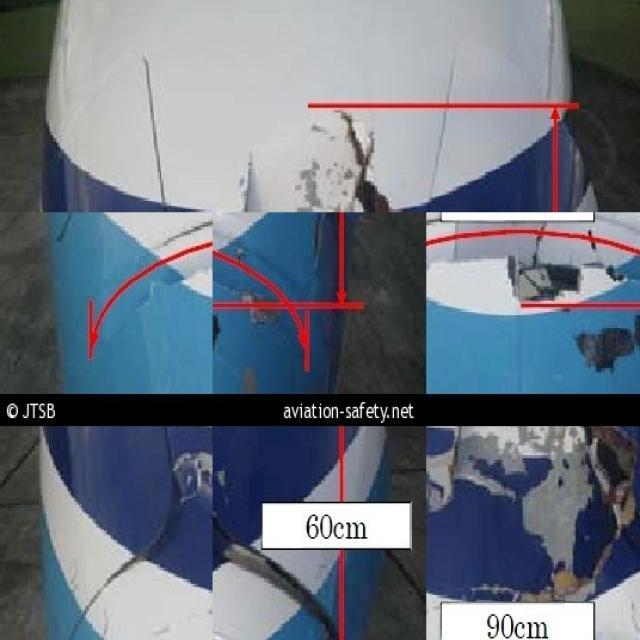crack: (334, 115, 396, 215), (235, 149, 259, 214)
